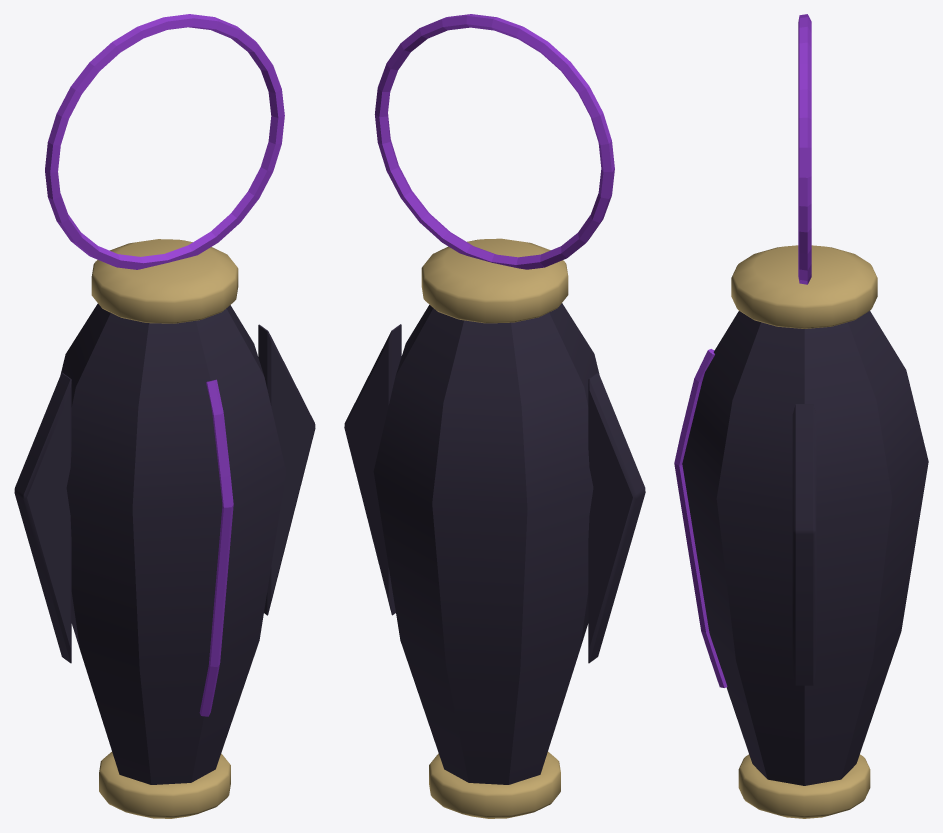
The model's file is Kit_Limb_LeagueFloat_L.glb.
The picture shows the model from 3 angles, left to right: view 1: azimuth 30°, elevation 25°; view 2: azimuth 150°, elevation 25°; view 3: azimuth 270°, elevation 25°; orthographic projection.
Parts seen in each view (by area): view 1: Kit_Limb_LeagueFloat_L; view 2: Kit_Limb_LeagueFloat_L; view 3: Kit_Limb_LeagueFloat_L.
Boxes of the visible parts, bbox=[...] form: Kit_Limb_LeagueFloat_L: bbox=[14, 14, 315, 818]; Kit_Limb_LeagueFloat_L: bbox=[344, 14, 645, 818]; Kit_Limb_LeagueFloat_L: bbox=[674, 14, 928, 818].
Size of the model in its own units: 0.169 by 0.4318 by 0.1288.
